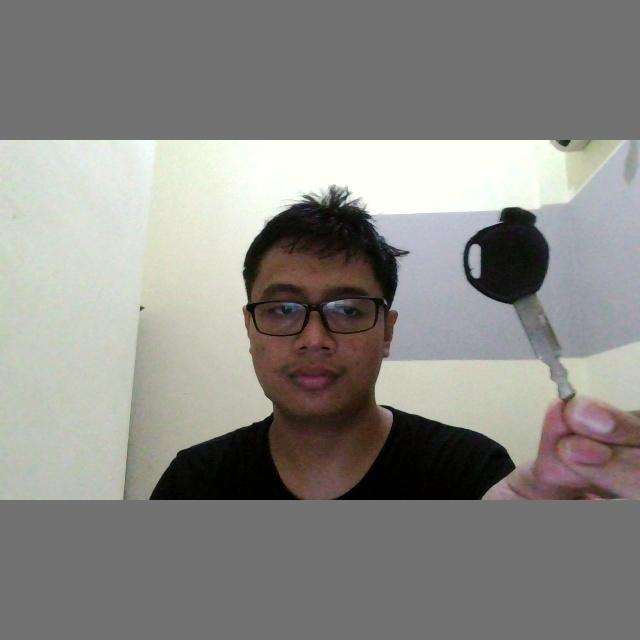Keys: (461, 199, 584, 409)
